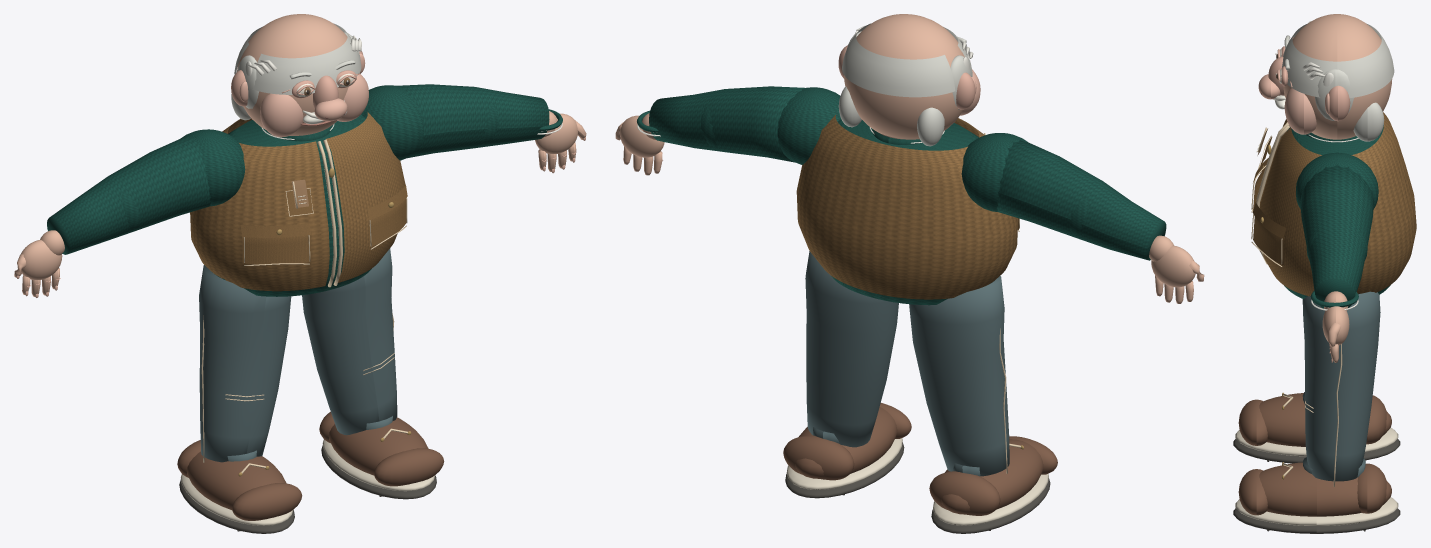
3 renders of one model, left to right at view 1: azimuth 30°, elevation 25°; view 2: azimuth 150°, elevation 25°; view 3: azimuth 270°, elevation 25°, orthographic. The views are drawn at different scales.
Visible parts, largest first — view 1: Woven trouser leg -1, Canvas vest • right front and back, Woven trouser leg +1, Brushed knit sleeve -1, Brushed knit sleeve +1, Canvas vest • left front and back, Mature head • broad nose and soft cheeks, Sweater body • rounded abdomen, Broad chestnut walking shoe -1, Sparse silver hair at sides and back, Shoulder joint +1, Broad chestnut walking shoe +1 (+14 smaller); view 2: Canvas vest • right front and back, Woven trouser leg -1, Woven trouser leg +1, Brushed knit sleeve -1, Brushed knit sleeve +1, Mature head • broad nose and soft cheeks, Sparse silver hair at sides and back, Shoulder joint +1, Shoulder joint -1, Broad chestnut walking shoe -1, Shoe heel counter -1, Shoe heel counter +1 (+9 smaller); view 3: Woven trouser leg +1, Brushed knit sleeve +1, Canvas vest • right front and back, Mature head • broad nose and soft cheeks, Canvas vest • left front and back, Broad chestnut walking shoe +1, Sparse silver hair at sides and back, Broad chestnut walking shoe -1, Walking shoe cream midsole +1, Shoulder joint +1, Walking shoe rubber outsole +1, Shoe heel counter +1 (+20 smaller).
Boxes of the visible parts, x1,y1,x2,y2 form: Woven trouser leg -1: (199, 265, 291, 462); Canvas vest • right front and back: (190, 118, 329, 291); Woven trouser leg +1: (302, 248, 397, 435); Brushed knit sleeve -1: (47, 135, 210, 254); Brushed knit sleeve +1: (395, 84, 549, 158); Canvas vest • left front and back: (326, 112, 405, 282); Mature head • broad nose and soft cheeks: (237, 14, 348, 135); Sweater body • rounded abdomen: (212, 114, 371, 296); Broad chestnut walking shoe -1: (186, 451, 286, 509); Sparse silver hair at sides and back: (234, 23, 361, 94); Shoulder joint +1: (361, 85, 423, 160); Broad chestnut walking shoe +1: (328, 417, 428, 475); Canvas vest • right front and back: (796, 115, 1018, 299); Woven trouser leg -1: (909, 275, 1009, 476); Woven trouser leg +1: (805, 251, 898, 447); Brushed knit sleeve -1: (996, 140, 1166, 260); Brushed knit sleeve +1: (649, 86, 805, 162); Mature head • broad nose and soft cheeks: (844, 14, 964, 139); Sparse silver hair at sides and back: (842, 23, 972, 97); Shoulder joint +1: (777, 87, 840, 164); Shoulder joint -1: (961, 133, 1027, 211); Broad chestnut walking shoe -1: (941, 439, 1043, 514); Shoe heel counter -1: (929, 471, 1000, 515); Shoe heel counter +1: (783, 435, 854, 480); Woven trouser leg +1: (1302, 291, 1380, 481); Brushed knit sleeve +1: (1300, 159, 1374, 308); Canvas vest • right front and back: (1259, 112, 1416, 293); Mature head • broad nose and soft cheeks: (1283, 14, 1392, 139); Canvas vest • left front and back: (1260, 127, 1321, 296); Broad chestnut walking shoe +1: (1259, 462, 1391, 516); Sparse silver hair at sides and back: (1282, 23, 1394, 98); Broad chestnut walking shoe -1: (1259, 393, 1391, 446); Walking shoe cream midsole +1: (1235, 497, 1398, 525); Shoulder joint +1: (1296, 152, 1378, 209); Walking shoe rubber outsole +1: (1233, 508, 1400, 533); Shoe heel counter +1: (1357, 463, 1386, 513).
Size of the model in its own units: 2.3 by 1.79 by 0.638.
21 materials, 2 textured.
